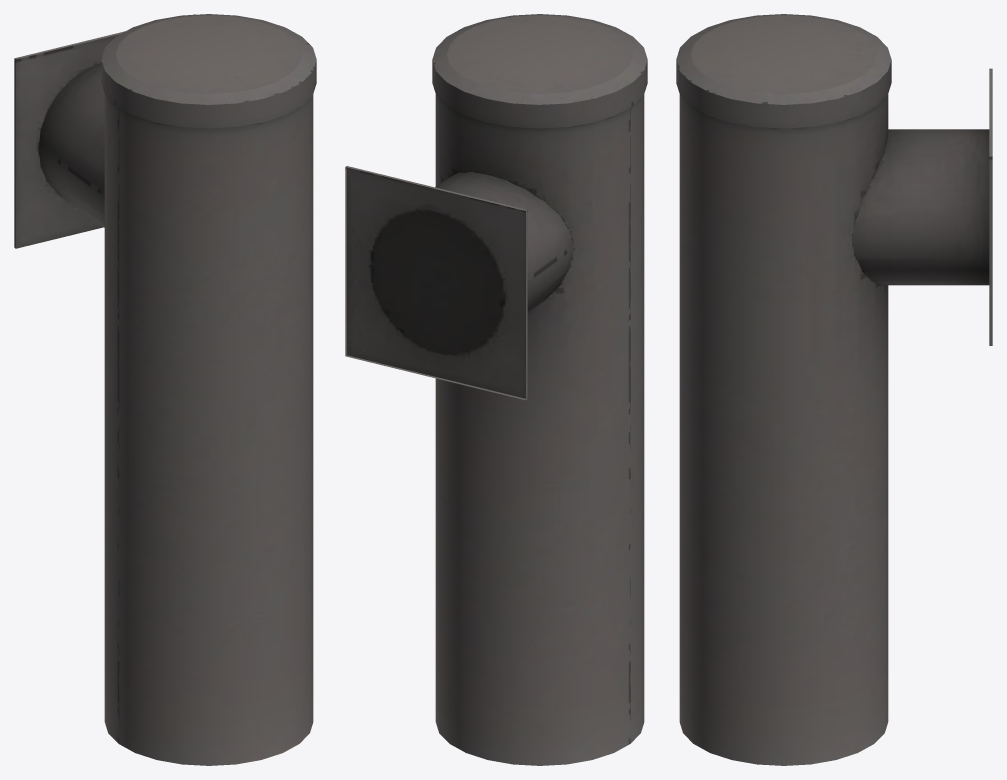
3 renders of one model, left to right at view 1: azimuth 30°, elevation 25°; view 2: azimuth 150°, elevation 25°; view 3: azimuth 270°, elevation 25°, orthographic.
Parts seen in each view (by area): view 1: body0_model0_lod0_mesh0; view 2: body0_model0_lod0_mesh0; view 3: body0_model0_lod0_mesh0.
Part boxes in pixels (<box>): body0_model0_lod0_mesh0: <box>14,14,316,765</box>; body0_model0_lod0_mesh0: <box>345,14,647,765</box>; body0_model0_lod0_mesh0: <box>676,14,992,765</box>.
Size of the model in its own units: 65.99 by 227 by 96.98.
Materials: 1 (1 with a texture image).
